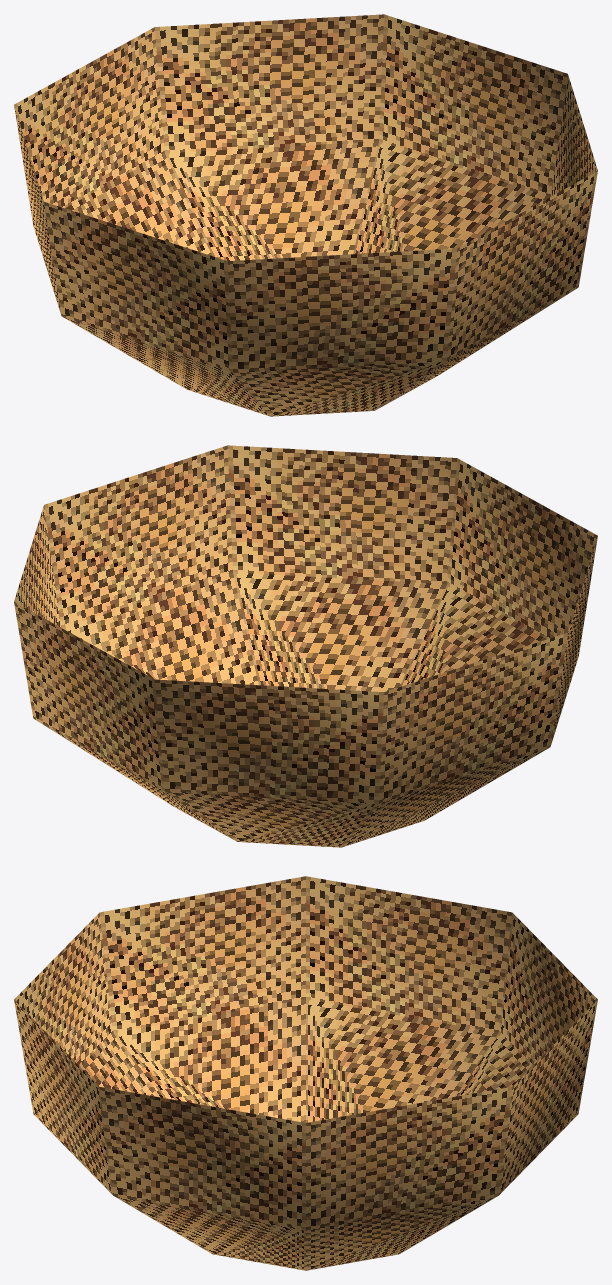
The model's file is Basket02.glb.
The picture shows the model from 3 angles, top to bottom: view 1: azimuth 30°, elevation 25°; view 2: azimuth 150°, elevation 25°; view 3: azimuth 270°, elevation 25°; orthographic projection. The views are drawn at different scales.
Parts seen in each view (by area): view 1: BASKET02; view 2: BASKET02; view 3: BASKET02.
Part boxes in pixels (left/top/right/bottom): BASKET02: left=14, top=14, right=597, bottom=416; BASKET02: left=14, top=445, right=597, bottom=847; BASKET02: left=14, top=876, right=597, bottom=1270.
Size of the model in its own units: 0.3 by 0.122 by 0.3.
1 material, 1 textured.
